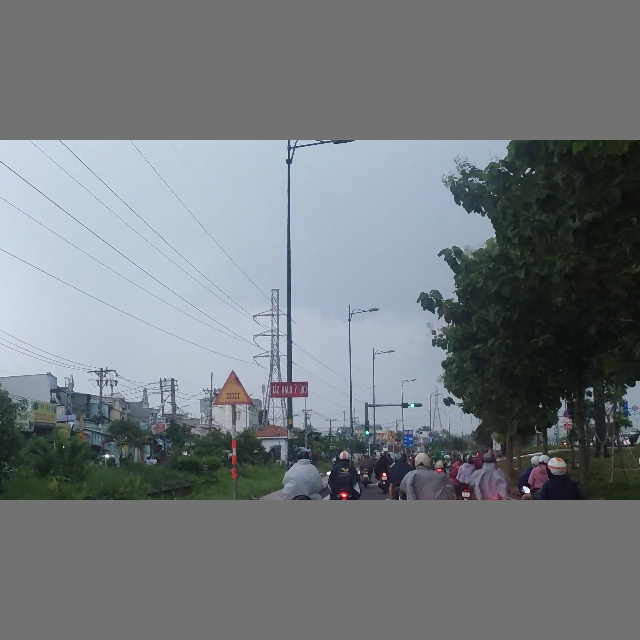I.407a: (428, 437, 433, 443)
W.210: (213, 370, 253, 407)
